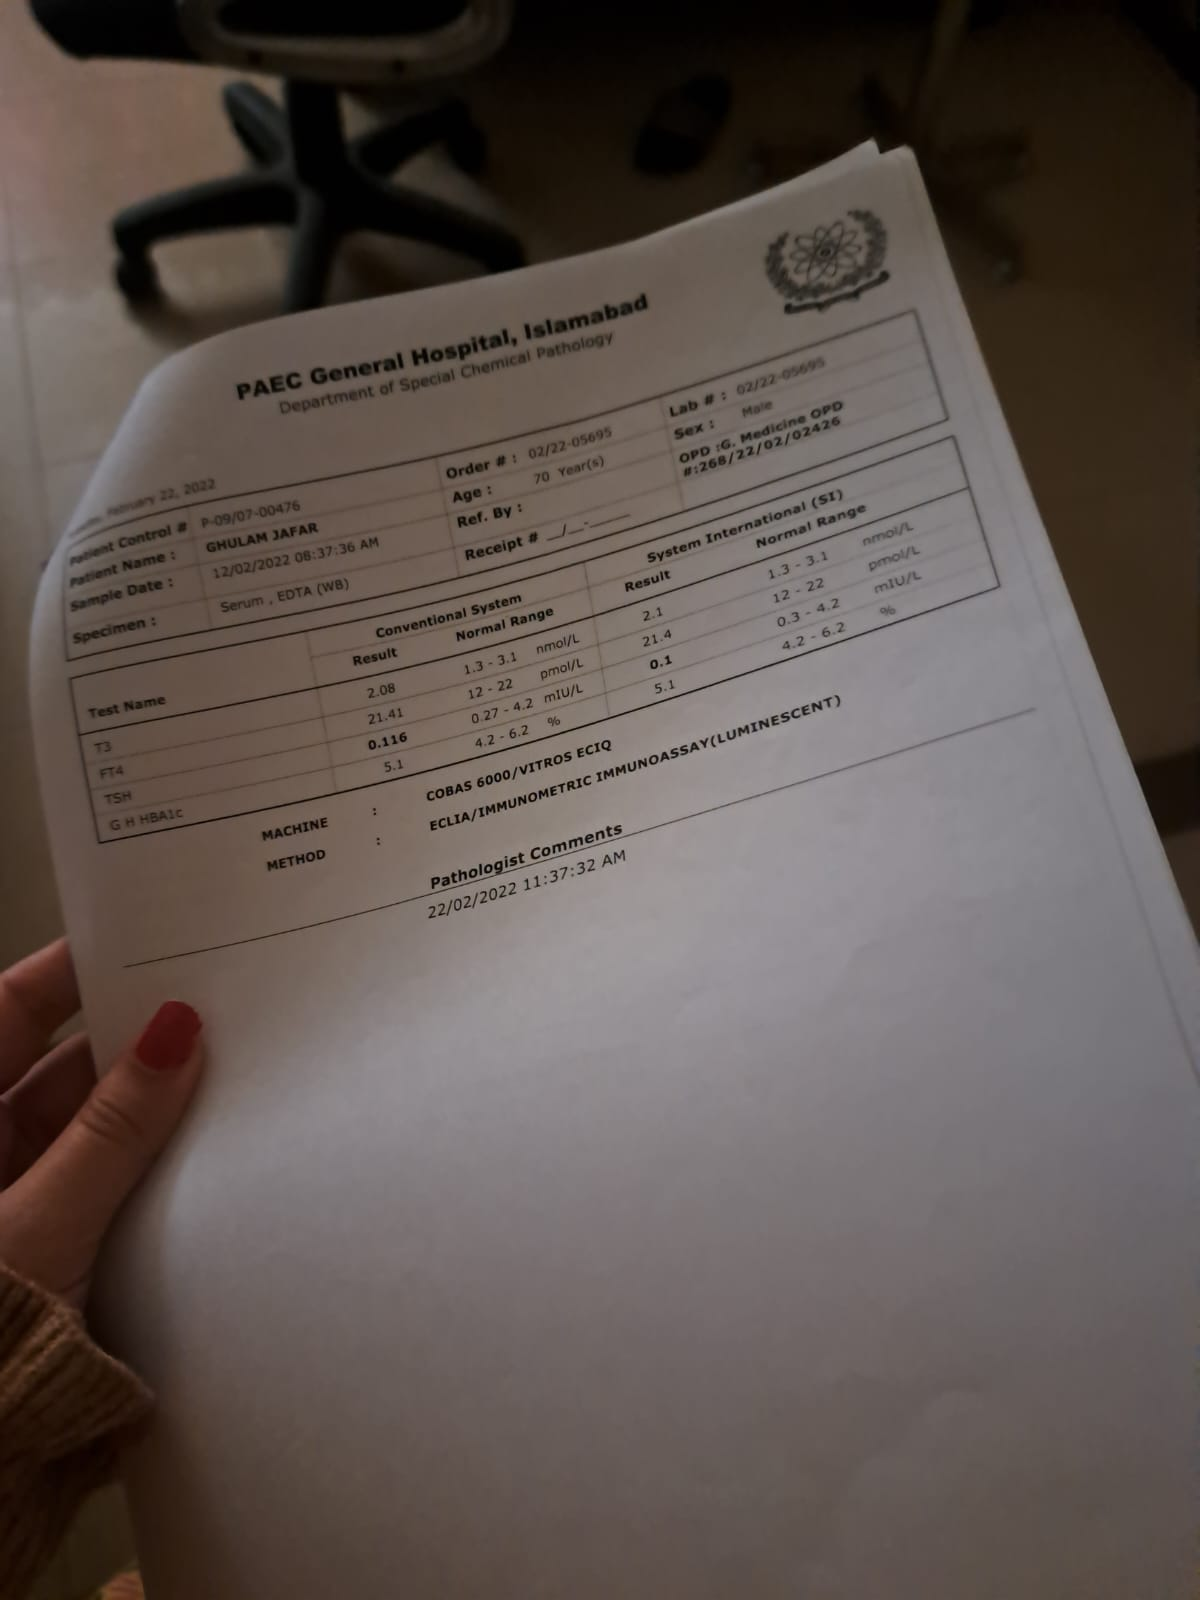report: (69, 433, 1001, 847)
